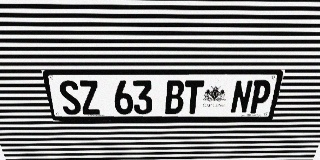3: (133, 80, 152, 114)
6: (113, 80, 134, 114)
B: (165, 80, 185, 114)
N: (230, 80, 254, 113)
P: (248, 80, 273, 113)
S: (57, 80, 82, 115)
T: (183, 80, 204, 114)
Z: (78, 80, 101, 115)
